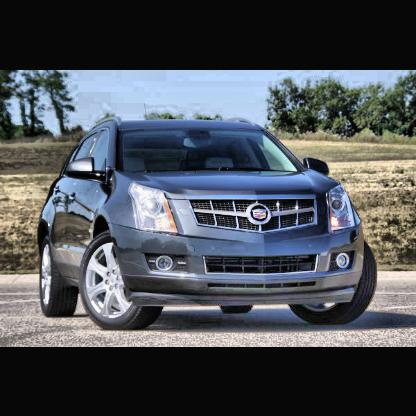Cadillac SRX SUV 2012: (39, 118, 380, 332)
